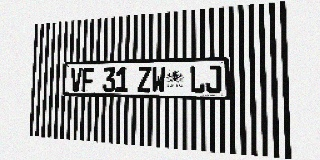1: (115, 67, 128, 92)
3: (103, 67, 115, 92)
F: (82, 68, 94, 92)
J: (205, 65, 222, 94)
L: (189, 65, 205, 93)
V: (70, 68, 82, 92)
W: (151, 66, 165, 93)
Z: (137, 66, 151, 93)
